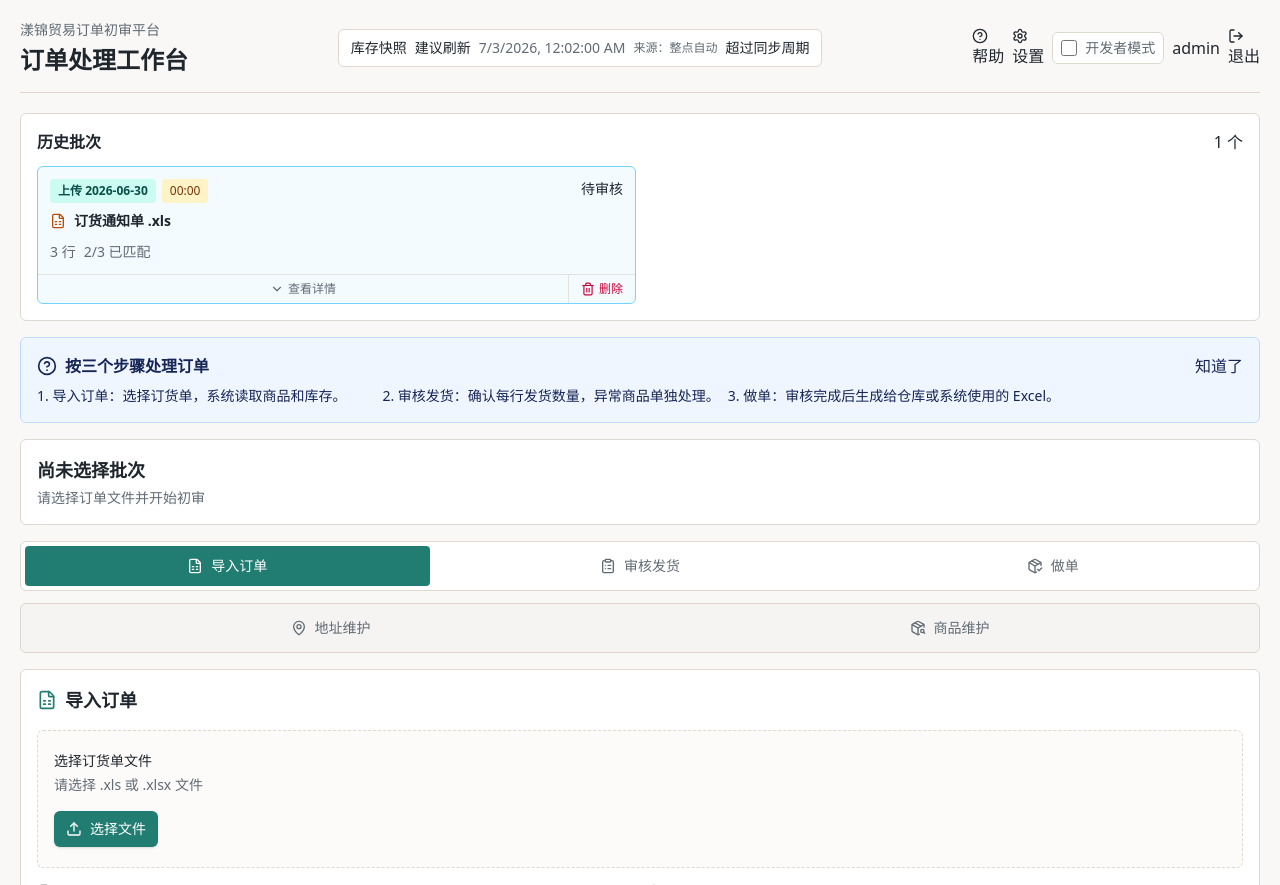
Test case: App › shows clear empty states before a batch is selected
The image size is (1280, 885).
Expected: the heading "订单处理工作台" is shown, [20, 44, 188, 76]
Click the button with test id "work-tab-review".
click(640, 566)  # box [438, 546, 842, 586]
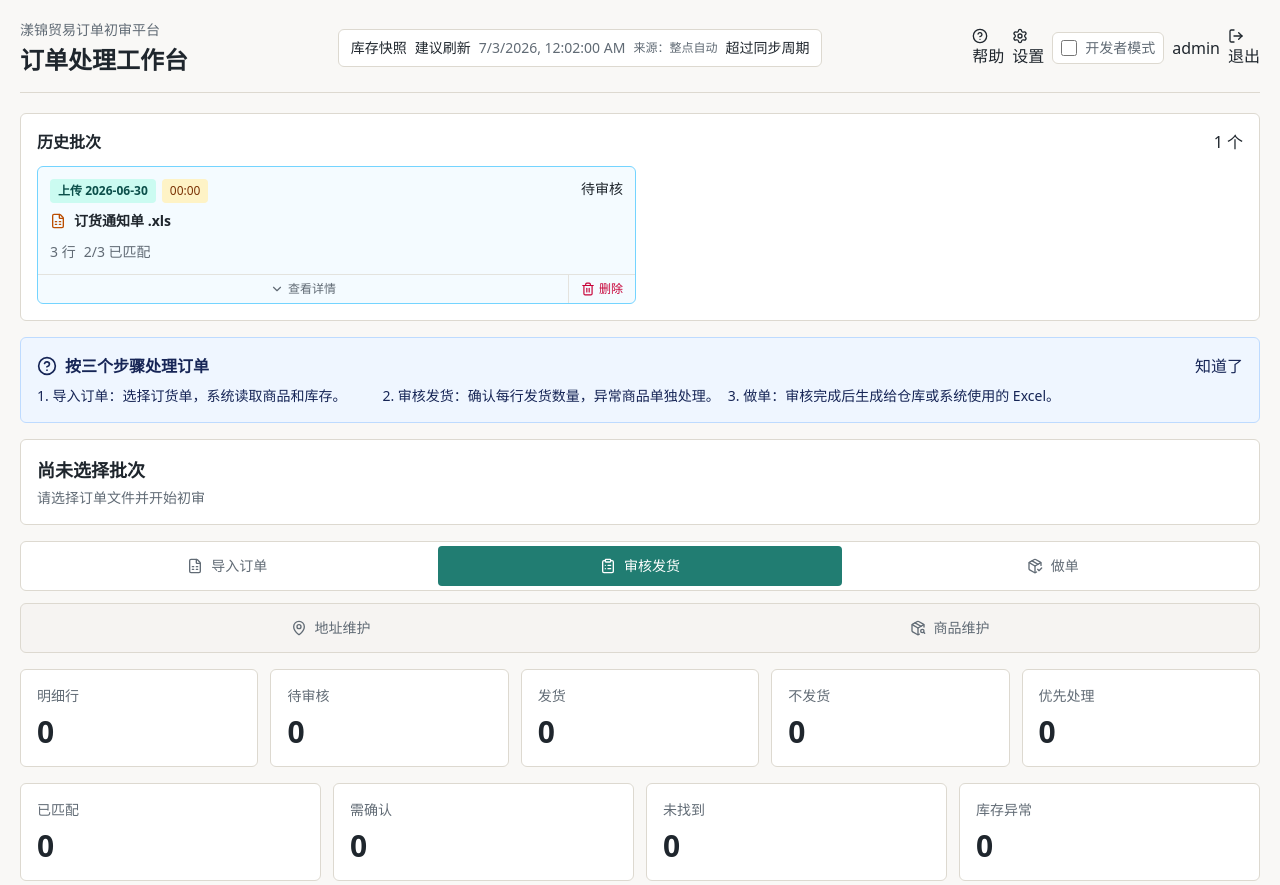
Click the button with test id "work-tab-export".
click(1053, 566)  # box [850, 546, 1255, 586]
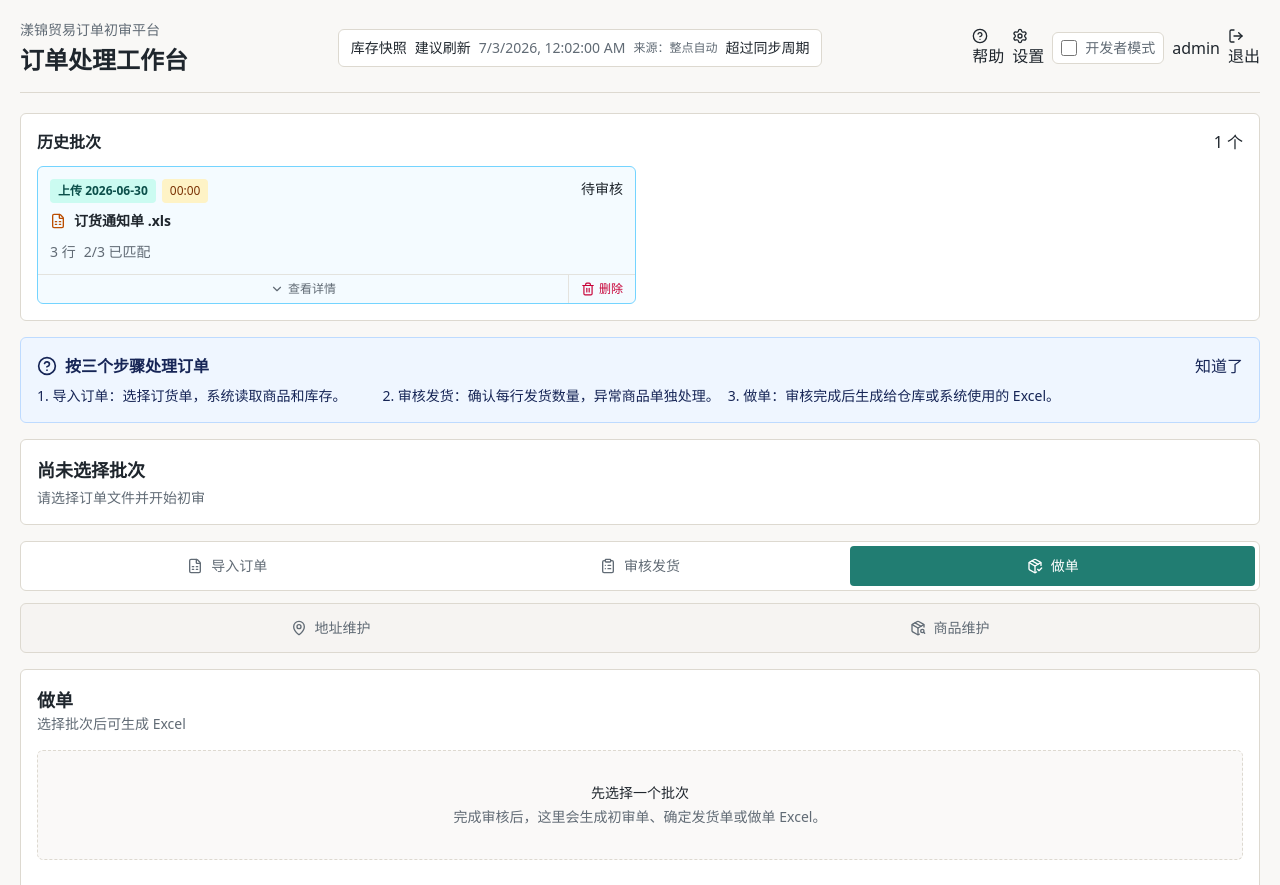
Expected: the text "完成审核后，这里会生成初审单、确定发货单或做单 Excel。" is shown, [454, 807, 826, 826]
